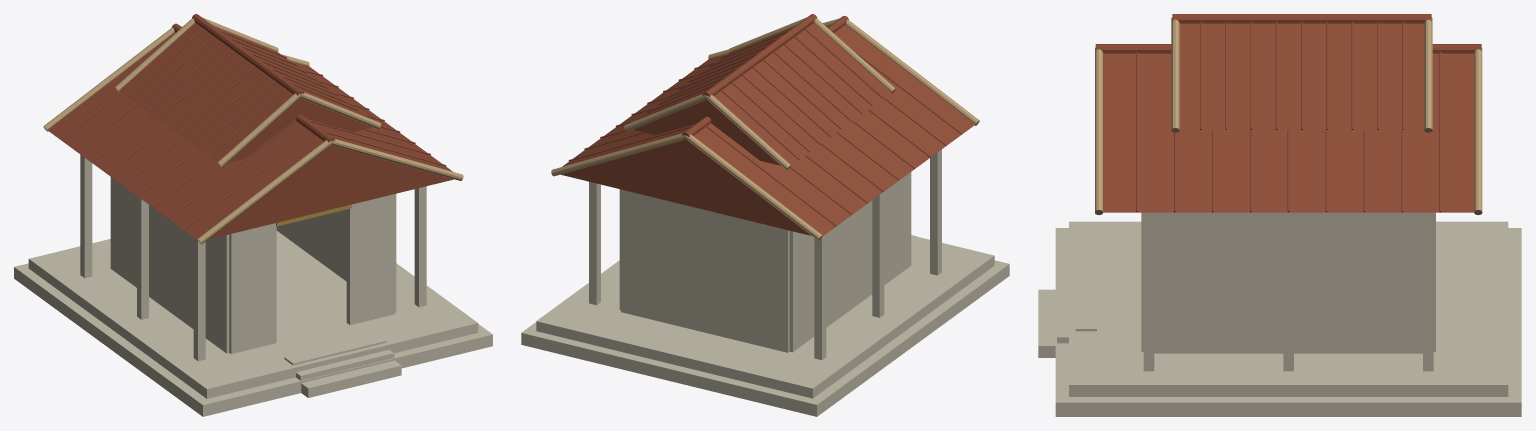
The model's file is hall-ultra.glb.
The picture shows the model from 3 angles, left to right: view 1: azimuth 30°, elevation 25°; view 2: azimuth 150°, elevation 25°; view 3: azimuth 270°, elevation 25°; orthographic projection. The views are drawn at different scales.
Visible parts, largest first — view 1: hall; view 2: hall; view 3: hall.
Part boxes in pixels (x1=…): hall: x1=14, y1=14, x2=492, y2=416; hall: x1=521, y1=14, x2=1009, y2=416; hall: x1=1038, y1=14, x2=1521, y2=416.
Bounding box in the file's own units: 6.2 × 5.23 × 7.26.
